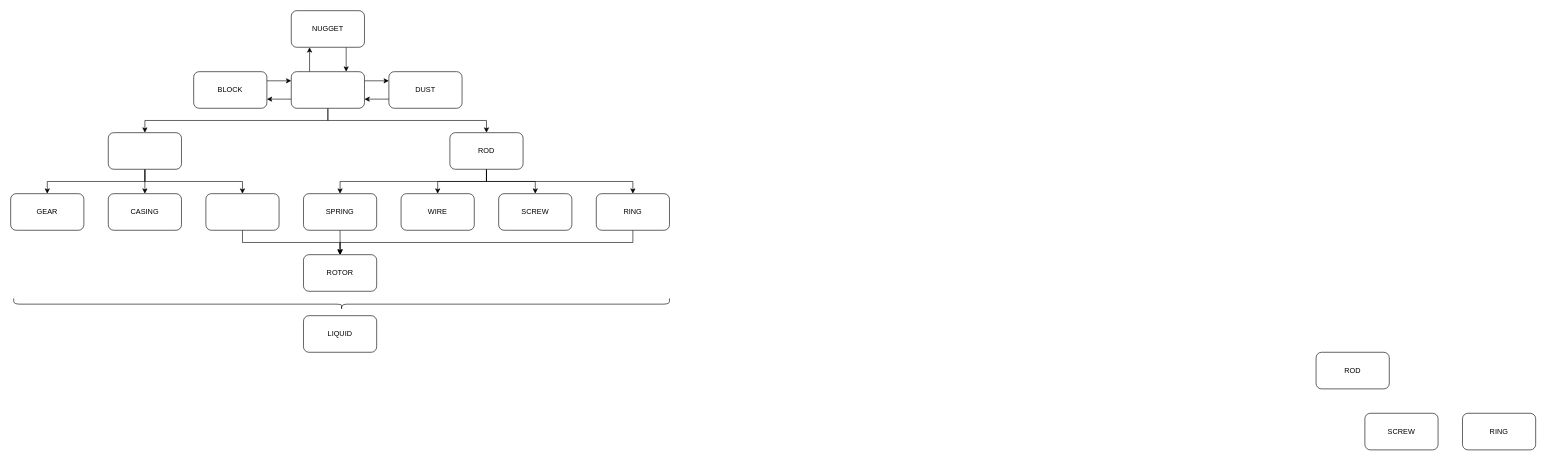
This 1546x461 diagram has some shape labels left out. Here are the shapes that lost their labels. From the top down, the box of each, then its label:
(291, 71, 364, 108): INGOT
(108, 132, 181, 169): PLATE
(205, 193, 279, 230): FOIL
